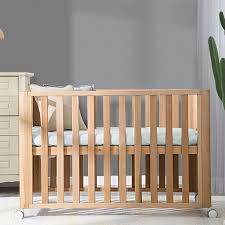crib: (19, 88, 211, 218)
